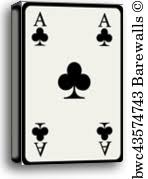ace of clubs: (22, 4, 121, 164)
